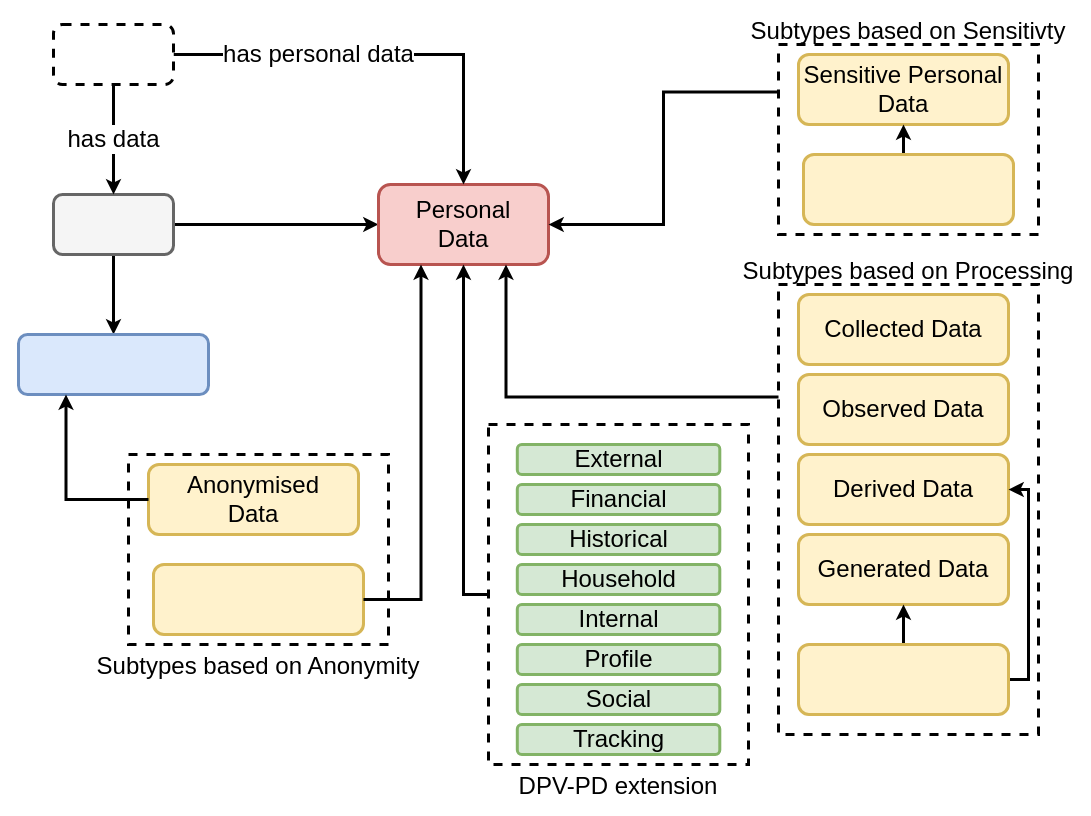
Some shapes in this 1091 by 816 pixel diagram are drawn without their labels. Here are the shapes that lost their labels. From the top down, the centre of each, then its label:
pixel 113 54: Thing
pixel 908 189: Special Category Personal Data
pixel 113 224: Data
pixel 113 364: Non-Personal Data
pixel 258 599: Pseudonymised Data
pixel 903 679: Inferred Data
